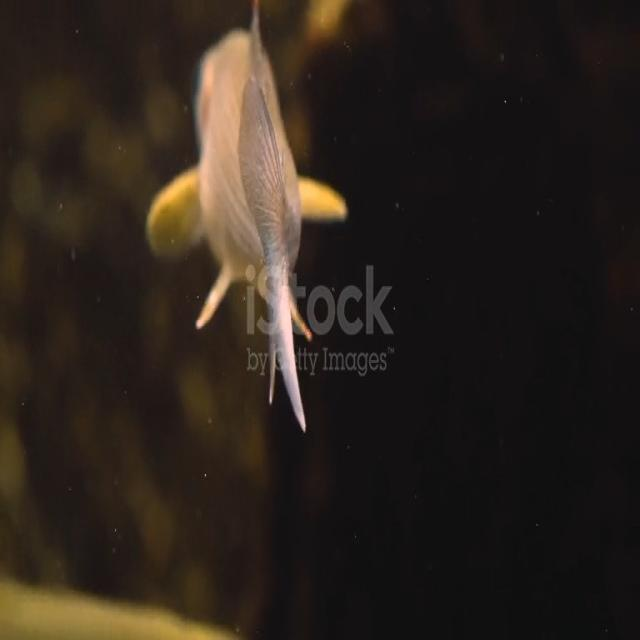fish: (141, 0, 354, 441)
